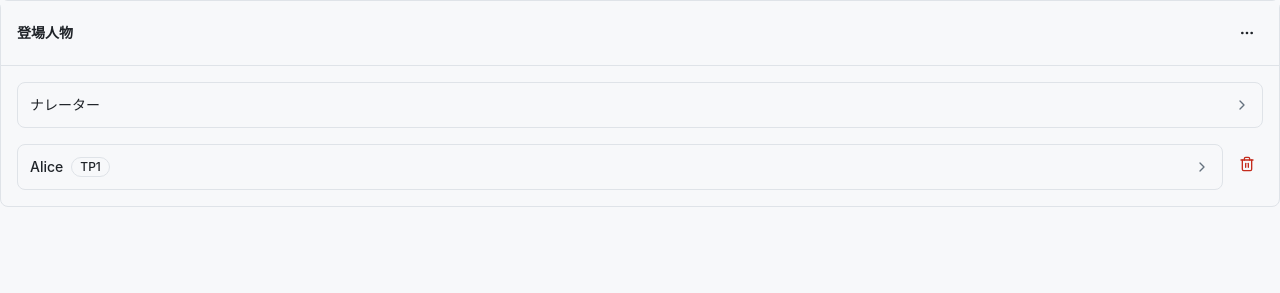
AnalysisContent 登場人物セクション › ナレーターを割り当て可能な話者として表示し、voice_traits を出す
Click the button with aria-label "ナレーターを開く" at (65,104), box [18,83,1262,127]
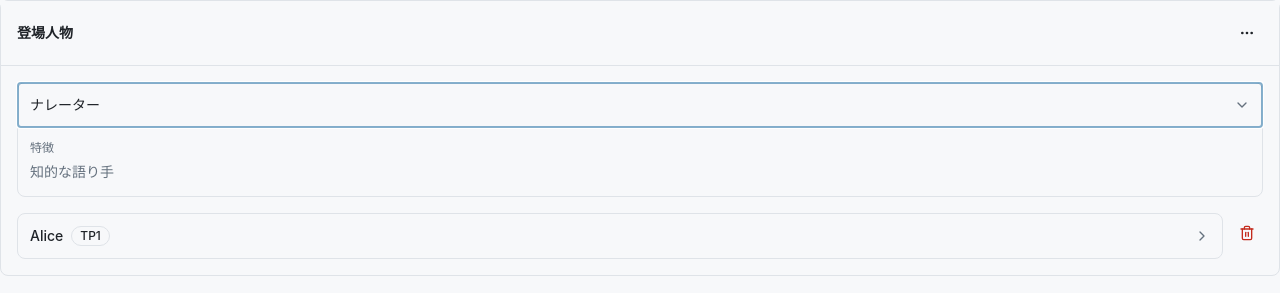
Now the text "知的な語り手" is shown, box [30,163,114,180]
